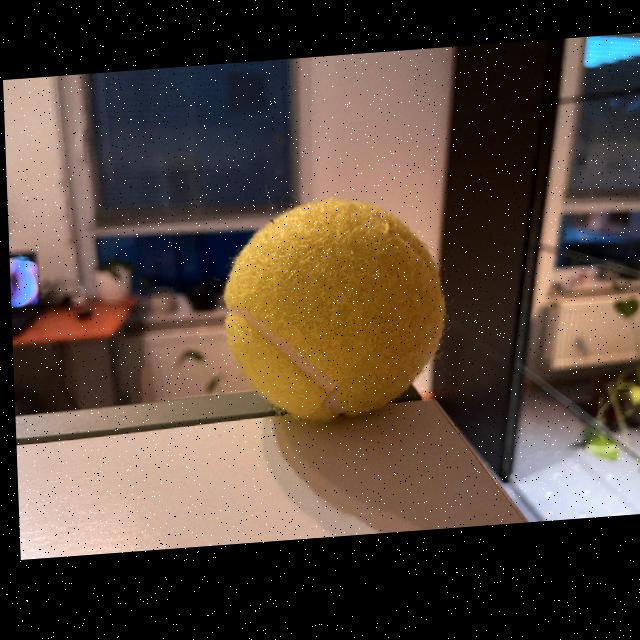Tennisball: (224, 199, 445, 421)
